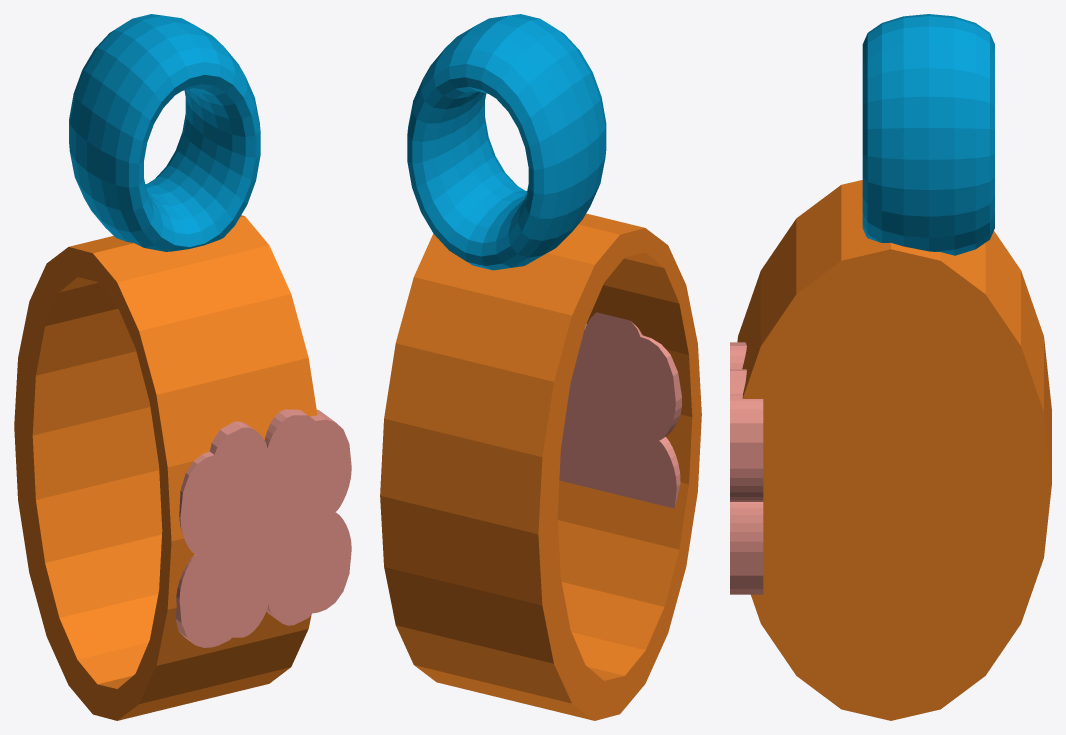
The model's file is tinker.obj.
3 renders of one model, left to right at view 1: azimuth 30°, elevation 25°; view 2: azimuth 150°, elevation 25°; view 3: azimuth 270°, elevation 25°, orthographic. The views are drawn at different scales.
Parts seen in each view (by area): view 1: group_0_16089887, group_0_40919, group_0_15308428; view 2: group_0_16089887, group_0_40919, group_0_15308428; view 3: group_0_16089887, group_0_40919, group_0_15308428.
Boxes of the visible parts, x1,y1,x2,y2 form: group_0_16089887: (14,215,317,720); group_0_40919: (69,14,260,251); group_0_15308428: (175,409,351,647); group_0_16089887: (380,213,701,720); group_0_40919: (407,14,606,270); group_0_15308428: (559,312,681,508); group_0_16089887: (737,180,1051,720); group_0_40919: (862,14,994,255); group_0_15308428: (730,342,763,594).
Bounding box in the file's own units: 22.5 × 78 × 34.
